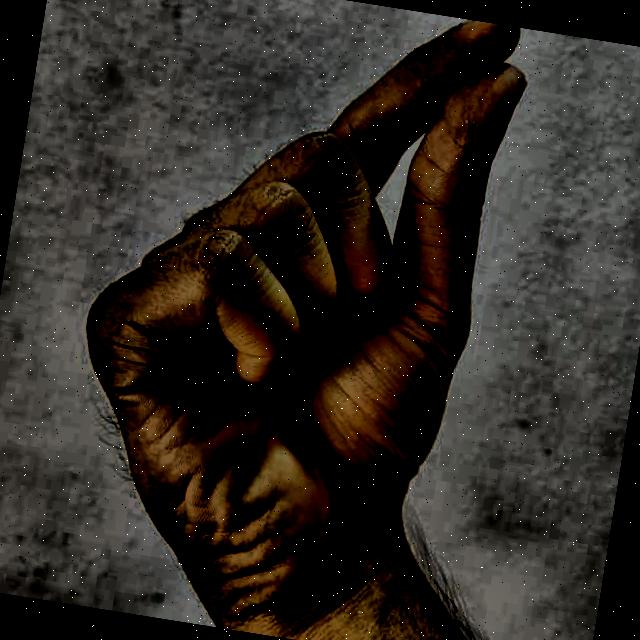Anusshar: (37, 0, 567, 640)
